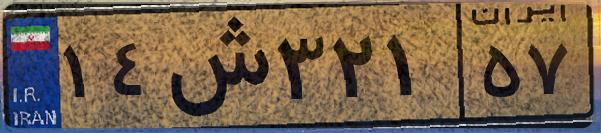1: (385, 28, 445, 110), (57, 26, 110, 100)
2: (330, 28, 385, 110)
3: (270, 28, 330, 110)
4: (110, 28, 158, 98)
5: (475, 38, 525, 113)
7: (525, 38, 570, 115)
ش: (158, 12, 270, 120)
